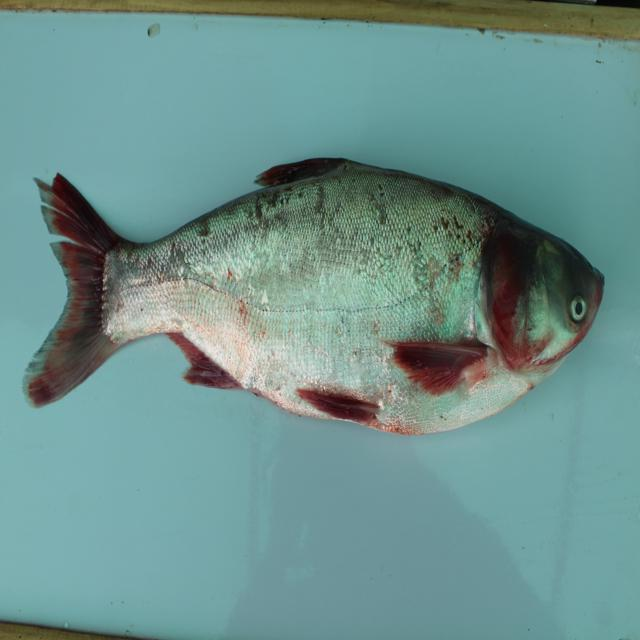SilverCarp: (14, 146, 613, 437)
